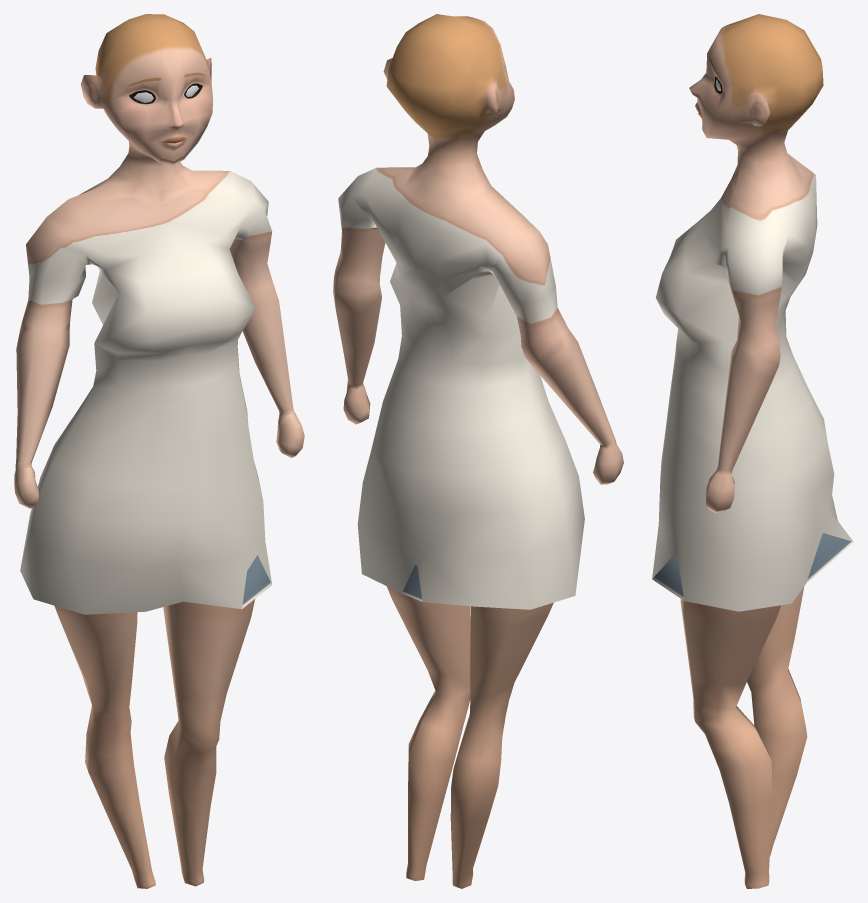
The model's file is timeCharIdle.fbx.
3 views of the same model, side by side, from view 1: azimuth 30°, elevation 25°; view 2: azimuth 150°, elevation 25°; view 3: azimuth 270°, elevation 25° (orthographic). The views are drawn at different scales.
Parts seen in each view (by area): view 1: timeChar_ref:timeCharModel_ref_timeBody; view 2: timeChar_ref:timeCharModel_ref_timeBody; view 3: timeChar_ref:timeCharModel_ref_timeBody.
Boxes of the visible parts, bbox=[...] form: timeChar_ref:timeCharModel_ref_timeBody: bbox=[14, 14, 304, 888]; timeChar_ref:timeCharModel_ref_timeBody: bbox=[333, 14, 623, 888]; timeChar_ref:timeCharModel_ref_timeBody: bbox=[652, 14, 853, 888].
Bounding box in the file's own units: 56.34 × 168 × 36.27.
1 material, 1 textured.
